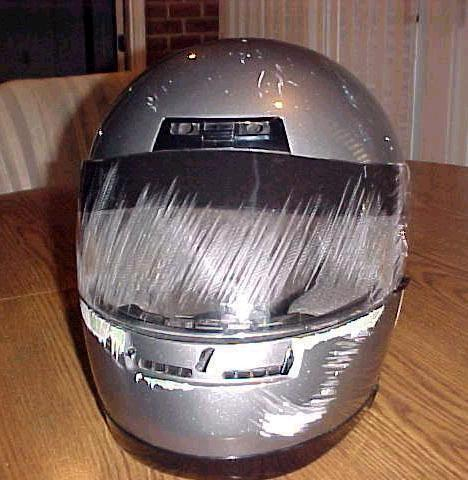helmet: (85, 57, 386, 443)
